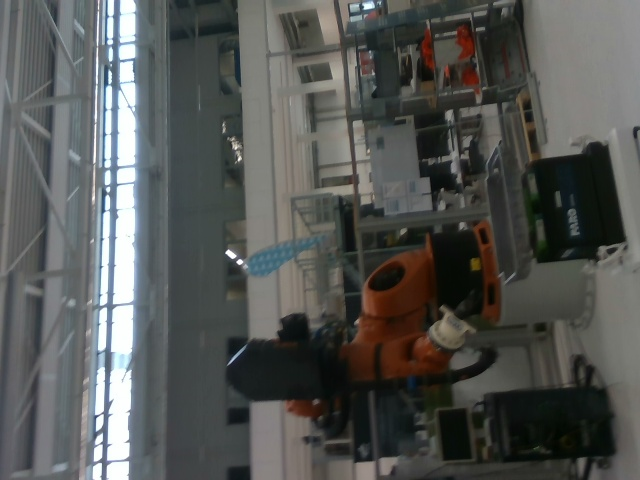Robot arm: (229, 221, 496, 416)
